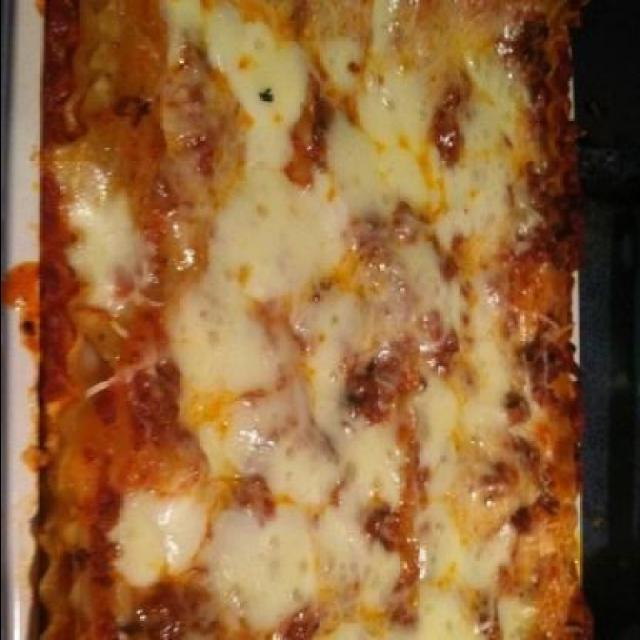Lasagna: (40, 4, 577, 622)
